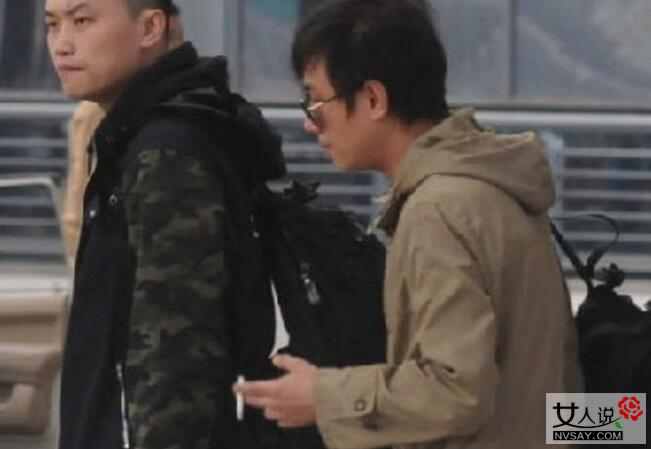smoking: (229, 367, 253, 433)
